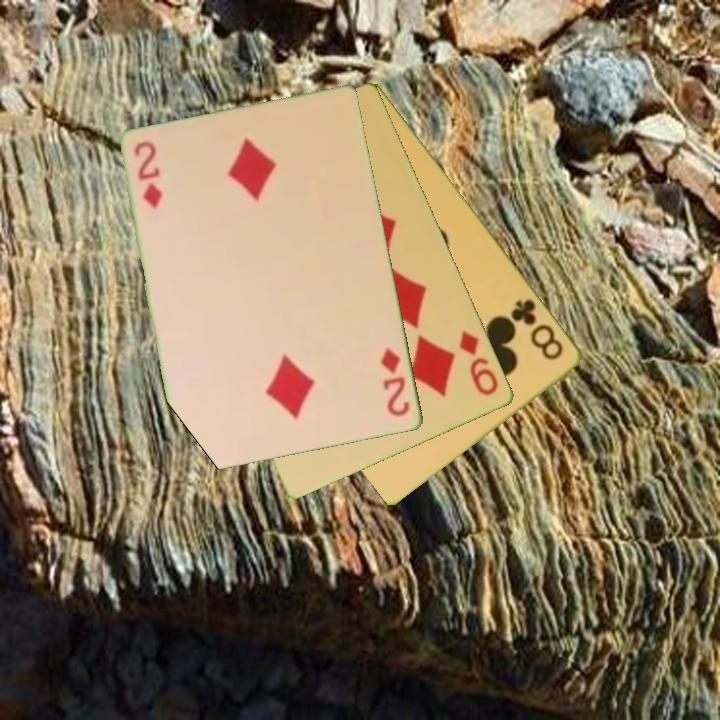2d: (377, 344, 413, 420), (131, 137, 165, 212)
8c: (507, 295, 567, 364)
9d: (456, 326, 502, 399)
